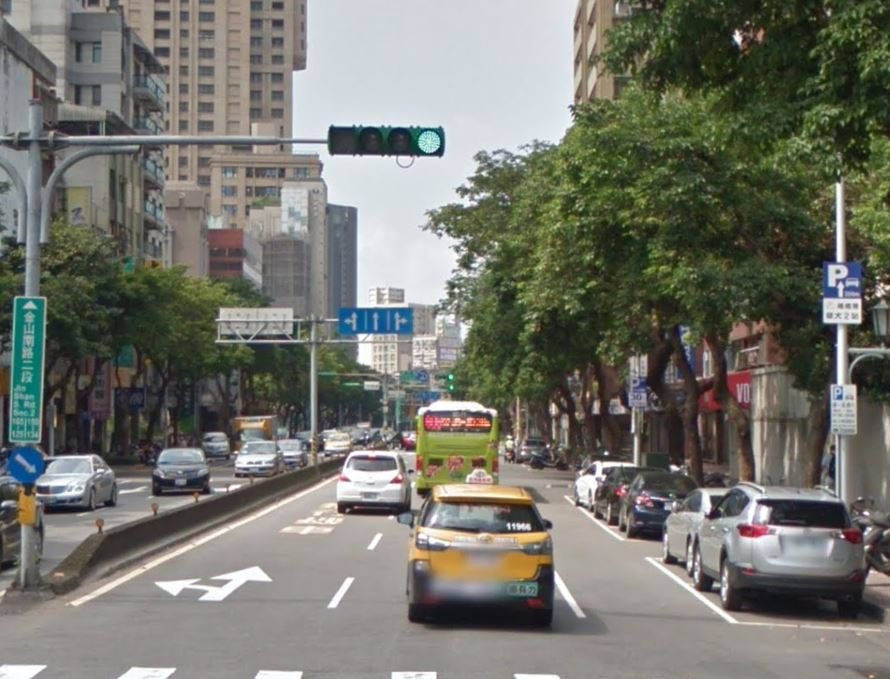Traffic_light_green: (326, 123, 448, 159)
car: (403, 472, 557, 634), (695, 480, 870, 619), (332, 447, 413, 517), (149, 441, 214, 495)
